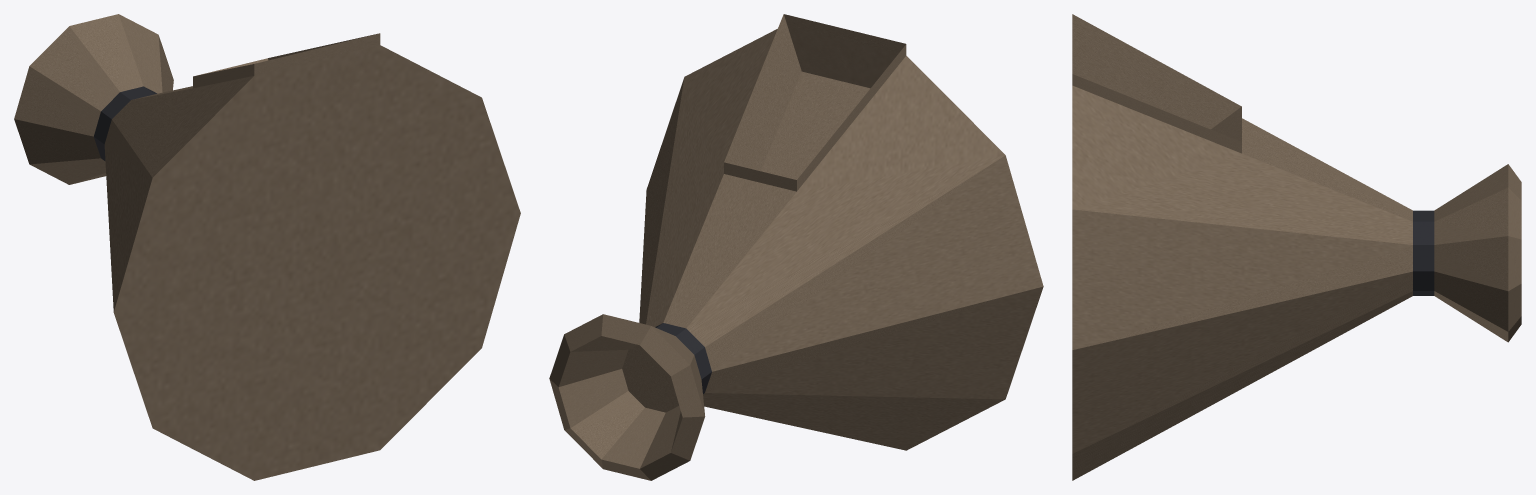
The model's file is desert_share_house.FBX.
The picture shows the model from 3 angles, left to right: view 1: azimuth 30°, elevation 25°; view 2: azimuth 150°, elevation 25°; view 3: azimuth 270°, elevation 25°; orthographic projection. The views are drawn at different scales.
Visible parts, largest first — view 1: desert_house_1; view 2: desert_house_1; view 3: desert_house_1.
Part boxes in pixels (<box>): desert_house_1: <box>14,14,520,480</box>; desert_house_1: <box>549,14,1043,480</box>; desert_house_1: <box>1072,14,1521,480</box>.
Size of the model in its own units: 102 by 100 by 100.
